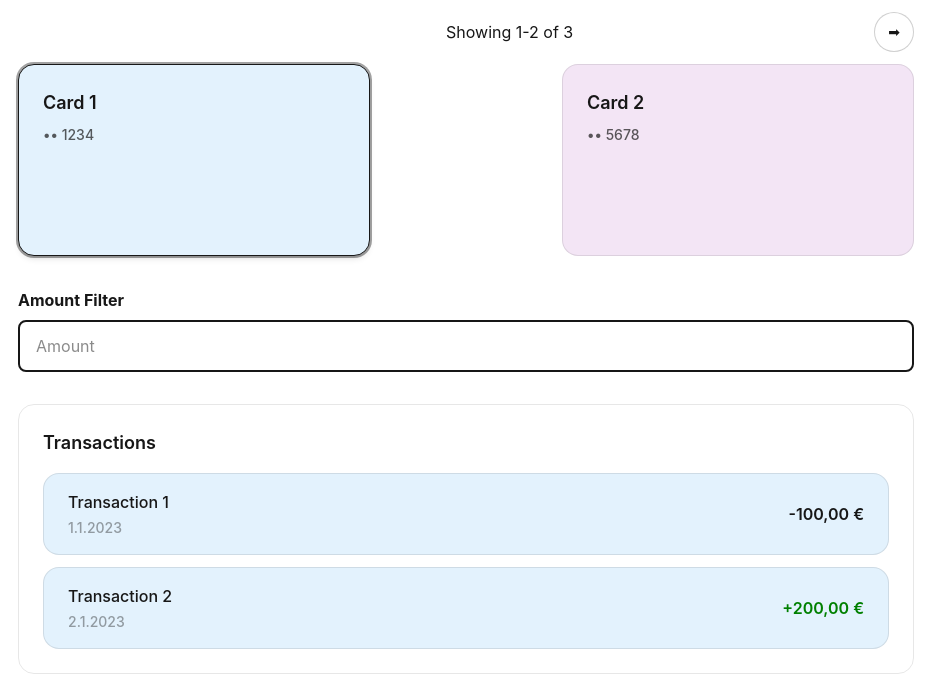
Scenario: Dashboard integration › typing amount filters the visible transactions
The width and height of the screenshot is (933, 691).
In the field with placeholder "Amount": (466, 346) [18, 320, 914, 372], type "150"
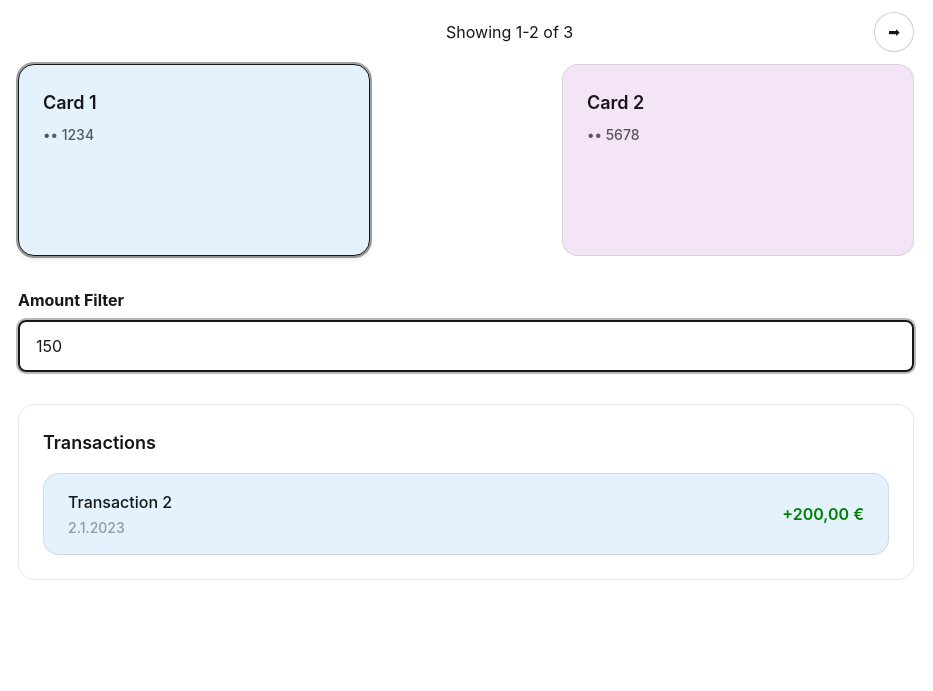
Expected: the text "Transaction 2" is shown, [68, 490, 172, 514]
Now the text "Transaction 1" is gone
